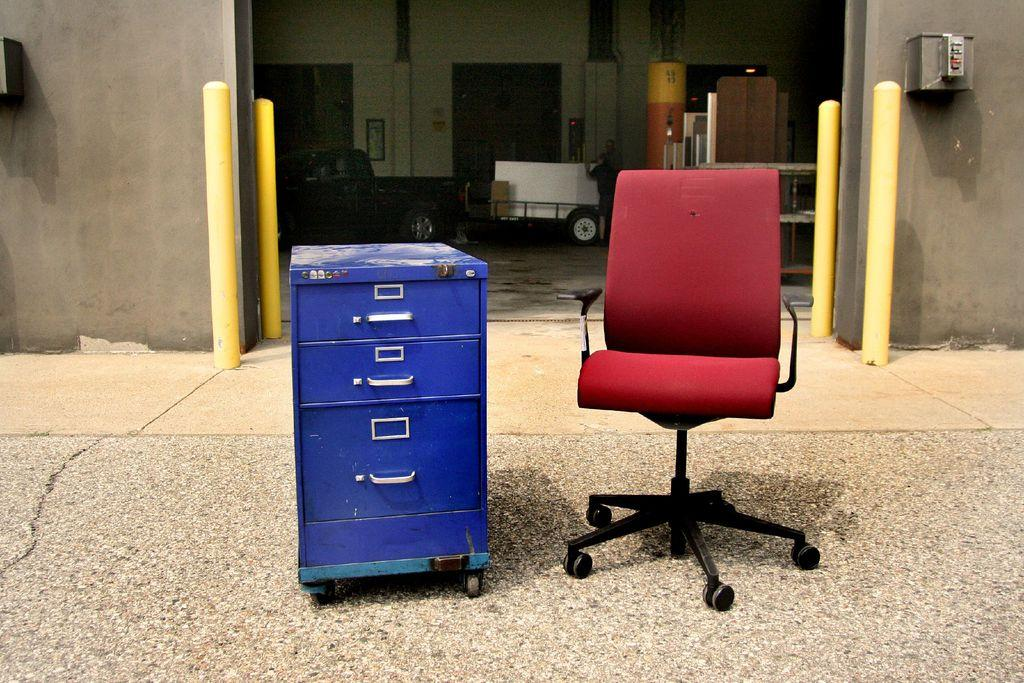cabinet_door: (301, 408, 477, 506), (303, 282, 479, 340), (300, 346, 476, 400)
handle: (363, 307, 419, 332), (366, 469, 422, 486), (364, 375, 414, 394)
